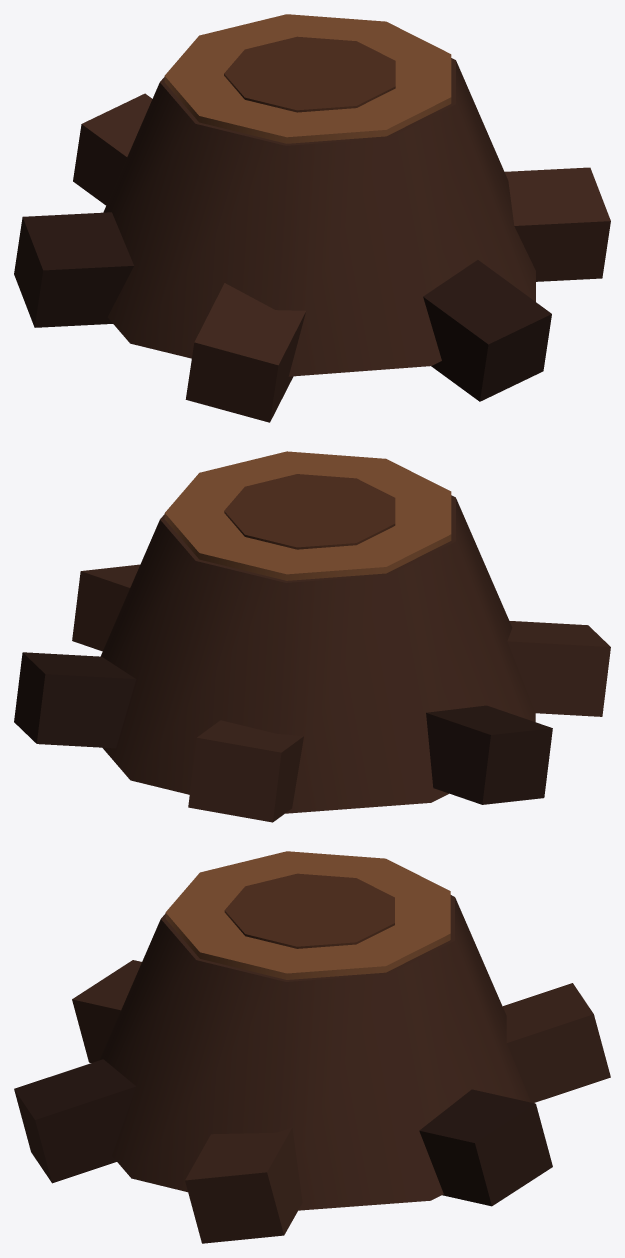
File: prop_stump_small.glb
3 renders of one model, top to bottom at view 1: azimuth 30°, elevation 25°; view 2: azimuth 150°, elevation 25°; view 3: azimuth 270°, elevation 25°, orthographic.
Visible parts, largest first — view 1: stump_trunk, stump_cut_face, root_0, root_4, root_5, stump_ring_inner, root_1, root_3; view 2: stump_trunk, stump_cut_face, root_4, stump_ring_inner, root_2, root_3, root_5, root_1; view 3: stump_trunk, stump_cut_face, root_2, root_1, root_0, stump_ring_inner, root_3, root_5.
Boxes of the visible parts, <box> form: stump_trunk: <box>103,58,535,376</box>; stump_cut_face: <box>164,14,451,143</box>; root_0: <box>423,260,551,401</box>; root_4: <box>14,212,133,327</box>; root_5: <box>185,283,306,422</box>; stump_ring_inner: <box>224,36,395,112</box>; root_1: <box>504,167,610,281</box>; root_3: <box>73,93,152,205</box>; stump_trunk: <box>100,495,535,813</box>; stump_cut_face: <box>164,451,451,580</box>; root_4: <box>426,705,552,804</box>; stump_ring_inner: <box>224,474,395,549</box>; root_2: <box>14,652,136,748</box>; root_3: <box>188,720,303,822</box>; root_5: <box>507,621,610,716</box>; root_1: <box>72,564,139,651</box>; stump_trunk: <box>100,895,534,1210</box>; stump_cut_face: <box>165,851,450,979</box>; root_2: <box>419,1089,552,1206</box>; root_1: <box>185,1127,302,1243</box>; root_0: <box>14,1059,136,1183</box>; stump_ring_inner: <box>224,873,394,948</box>; root_3: <box>502,983,610,1102</box>; root_5: <box>72,960,141,1062</box>.
Bounding box in the file's own units: 3.66 × 1.59 × 3.74.
